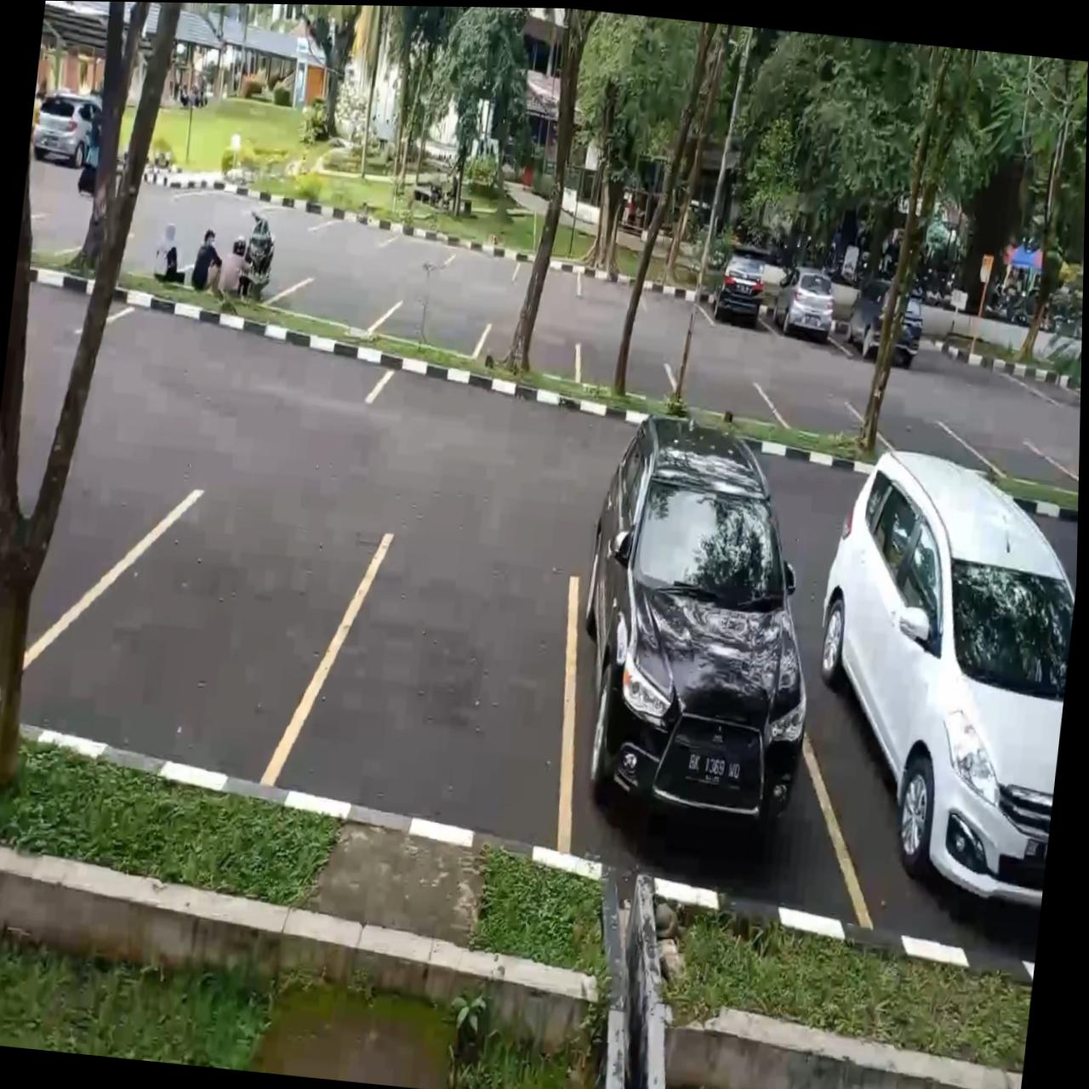cars: (560, 577, 867, 927), (755, 313, 851, 357), (695, 301, 780, 338)
empty: (0, 495, 390, 784), (265, 533, 574, 853), (76, 308, 392, 403), (847, 403, 1008, 478), (756, 385, 893, 451), (940, 423, 1079, 484), (666, 363, 787, 427), (265, 280, 400, 330), (370, 303, 490, 356), (578, 343, 679, 403), (475, 325, 578, 382), (377, 235, 461, 270), (310, 219, 397, 251), (639, 289, 712, 323), (441, 249, 520, 280), (579, 274, 645, 311), (1007, 375, 1081, 405), (513, 263, 579, 295)
